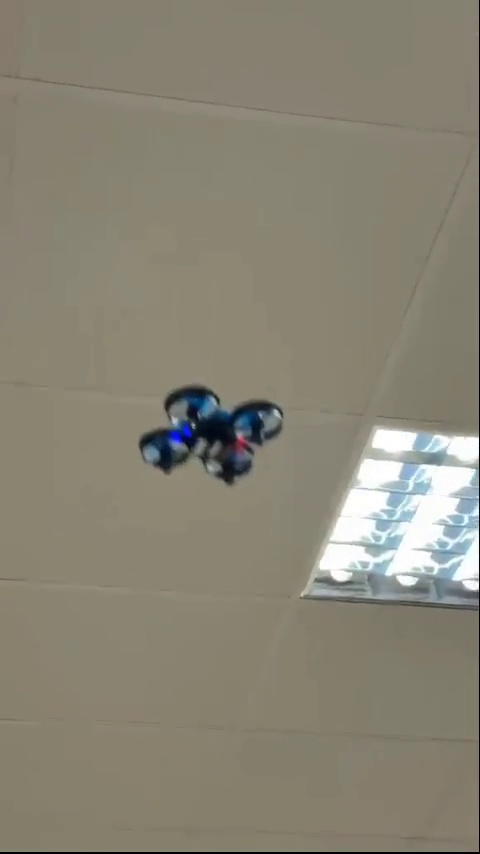drone: (134, 382, 283, 491)
